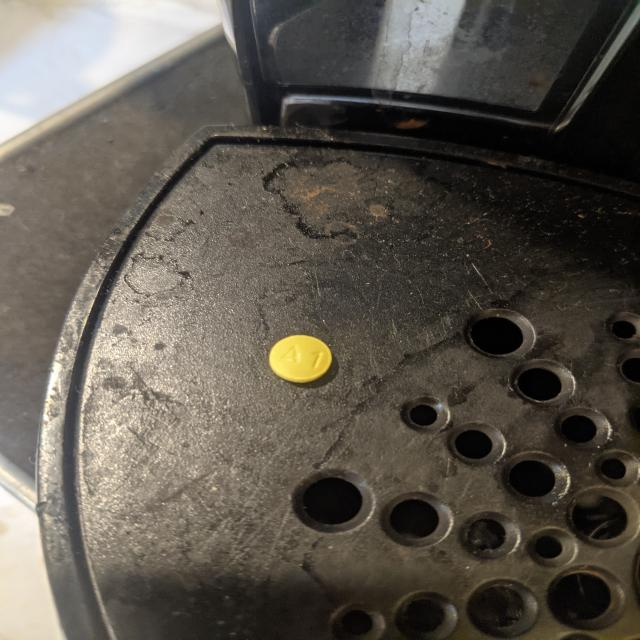non-organic waste: (267, 334, 333, 384)
